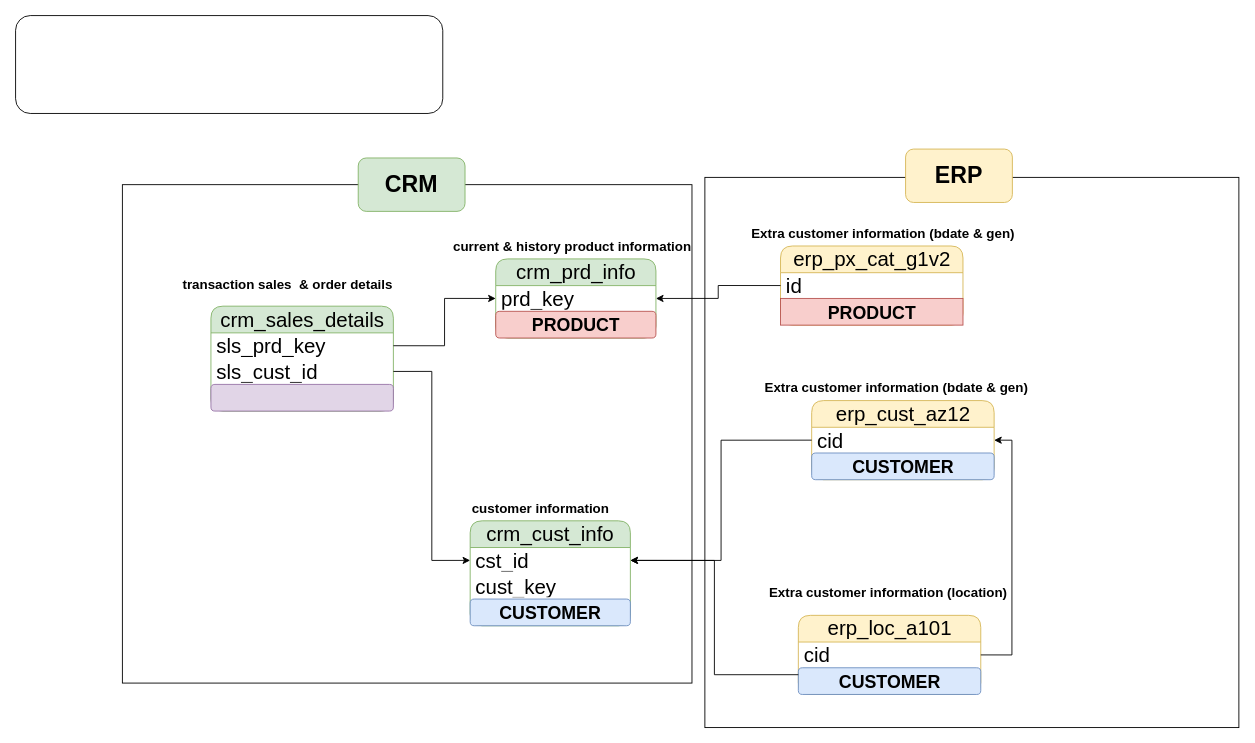
The diagram is 1255 pixels wide and 743 high, and some of its shapes have lost their labels. Each missing label, with the centre of its shape:
"Intergration Model (How tables are related)" goes at (x=229, y=64).
"SALES" goes at (x=301, y=397).
